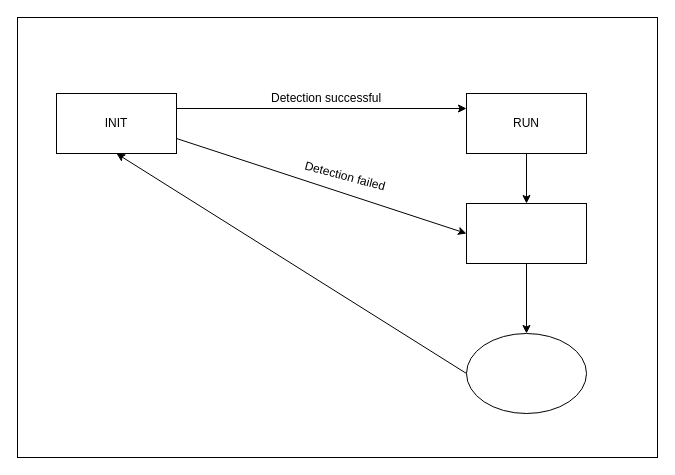
This 675x475 diagram has some shape labels left out. Here are the shapes that lost their labels. From the top down, the centre of each, then its label:
At point (526, 233): "FAILURE MODE".
At point (526, 373): "RESET MODE".
